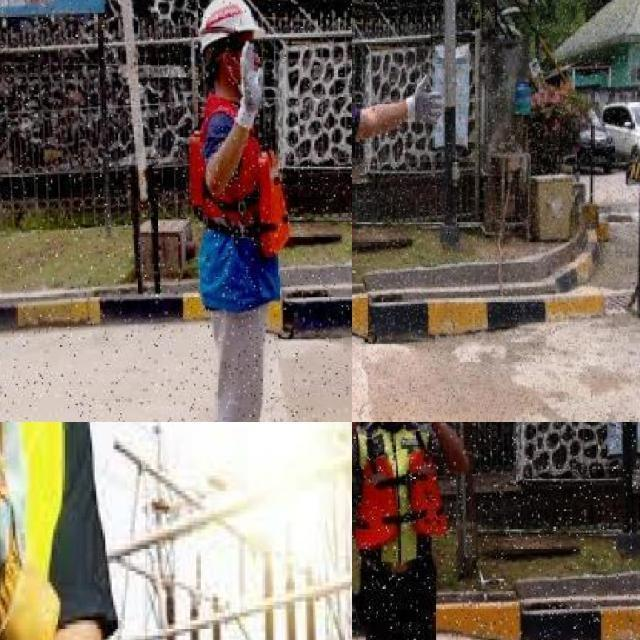apron: (0, 422, 58, 640), (234, 44, 268, 124), (406, 70, 442, 127)
